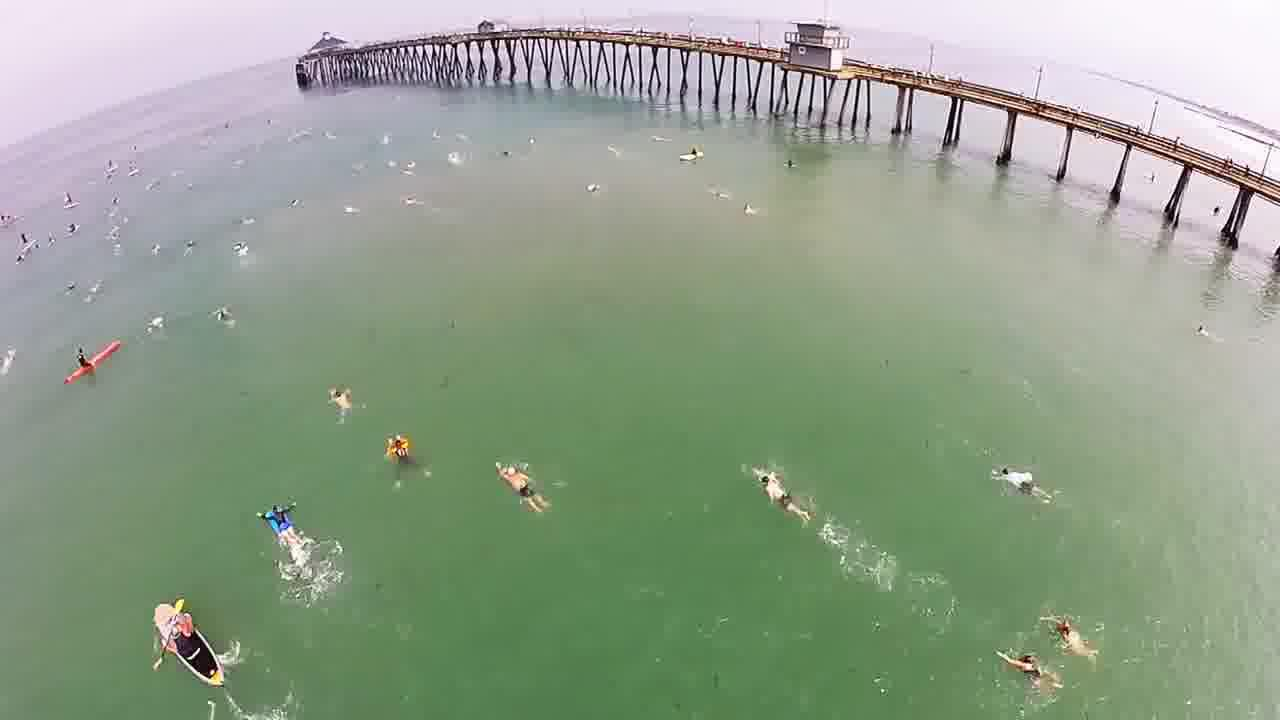human: (740, 453, 816, 517), (483, 448, 554, 512), (984, 637, 1061, 689), (1038, 598, 1103, 657), (981, 456, 1062, 500), (320, 376, 377, 426)
